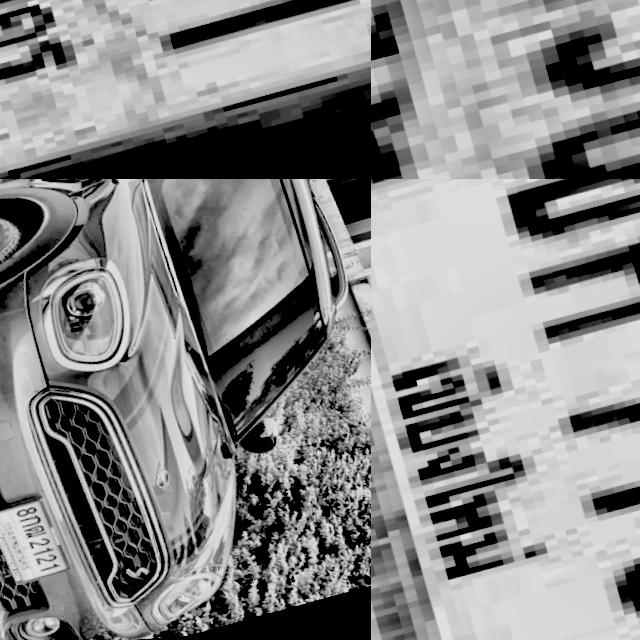license-plate: (371, 179, 640, 640), (0, 0, 371, 179), (371, 0, 640, 179), (0, 493, 68, 599)
